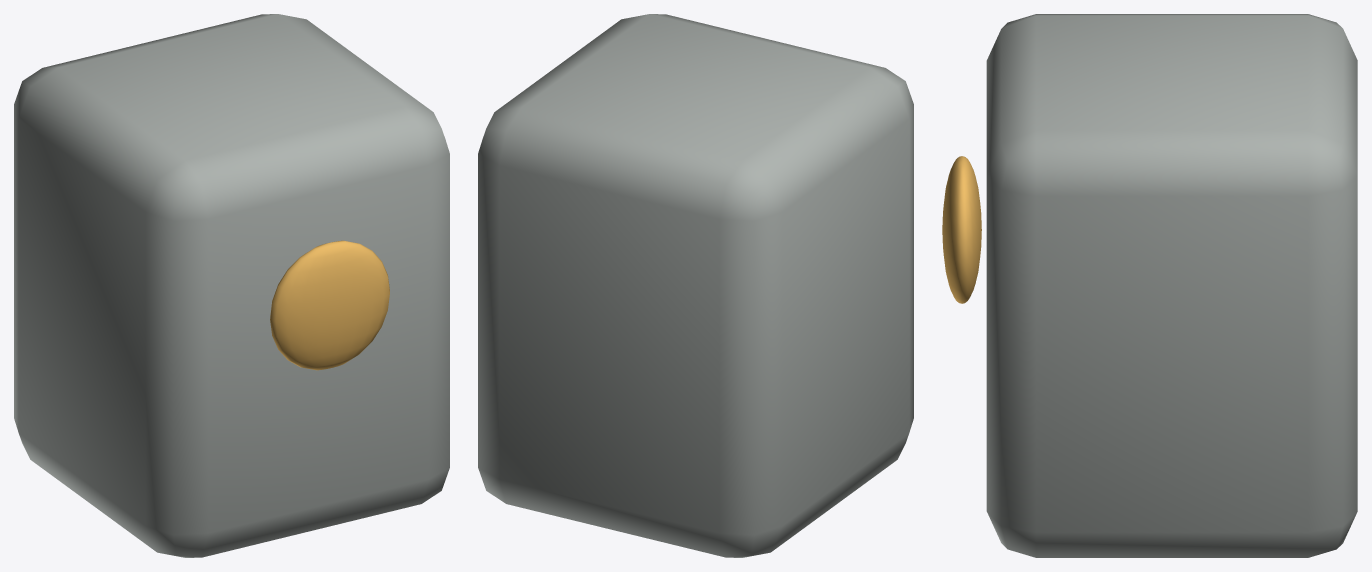
Rendered from puzzle_stone.glb.
3 renders of one model, left to right at view 1: azimuth 30°, elevation 25°; view 2: azimuth 150°, elevation 25°; view 3: azimuth 270°, elevation 25°, orthographic. The views are drawn at different scales.
Parts seen in each view (by area): view 1: PuzzleStone, PuzzleIndicator; view 2: PuzzleStone; view 3: PuzzleStone, PuzzleIndicator.
Part boxes in pixels (box(x1,y1,x2,y2)): PuzzleStone: box(14, 14, 449, 557); PuzzleIndicator: box(270, 240, 389, 370); PuzzleStone: box(478, 14, 913, 557); PuzzleStone: box(986, 14, 1357, 557); PuzzleIndicator: box(942, 156, 981, 303).
Size of the model in its own units: 0.3 by 0.38 by 0.336.
